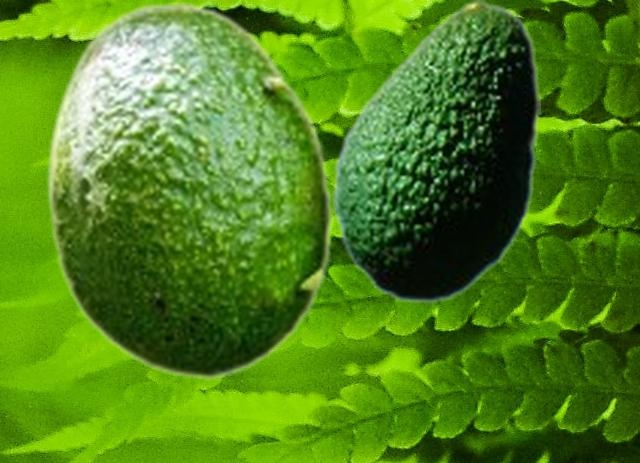avocado: (44, 2, 333, 379), (332, 0, 539, 303)
